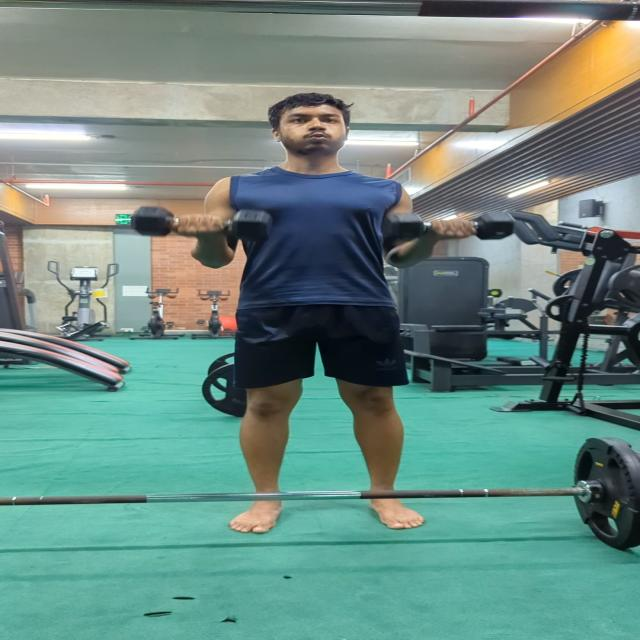Normal_DumbbellBicepCurls: (125, 87, 528, 544)
